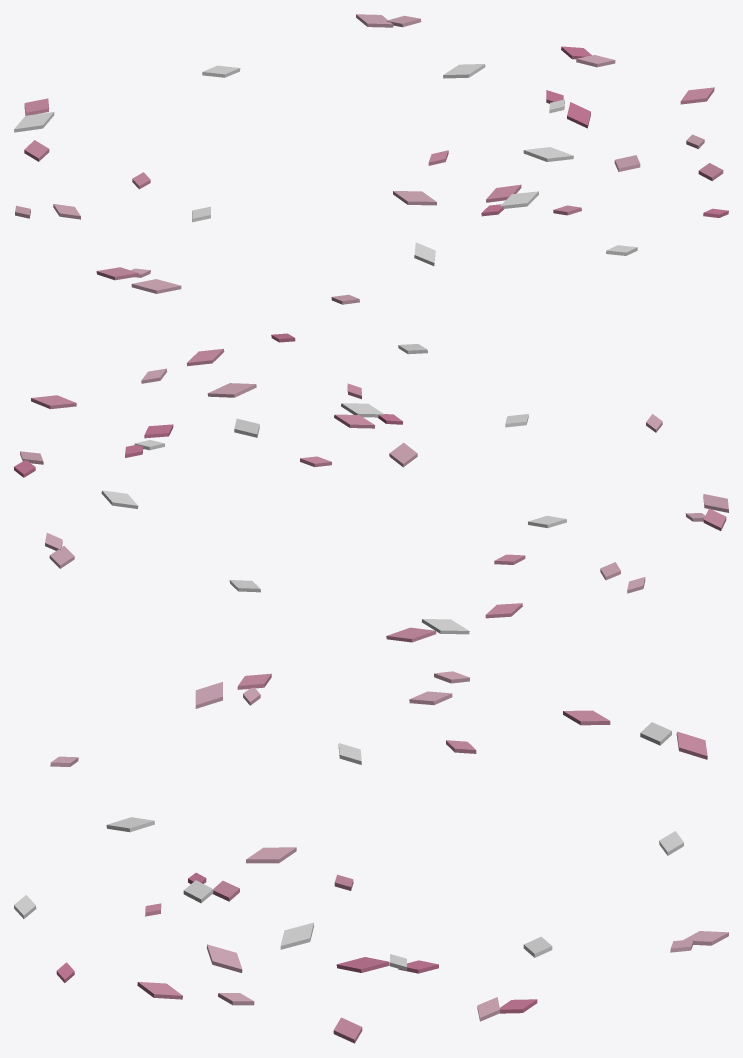
File: c-petals-decal.glb
3 views of the same model, one above another, from view 1: azimuth 30°, elevation 25°; view 2: azimuth 150°, elevation 25°; view 3: azimuth 270°, elevation 25° (orthographic). The views are drawn at different scales.
Visible parts, largest first — view 1: c-petals-decal; view 2: c-petals-decal; view 3: c-petals-decal.
Part boxes in pixels (box(x1,y1,x2,y2)): c-petals-decal: box(14, 14, 728, 304); c-petals-decal: box(14, 333, 728, 642); c-petals-decal: box(14, 671, 728, 1043).
Size of the model in its own units: 1.61 by 0.0269 by 1.34.
